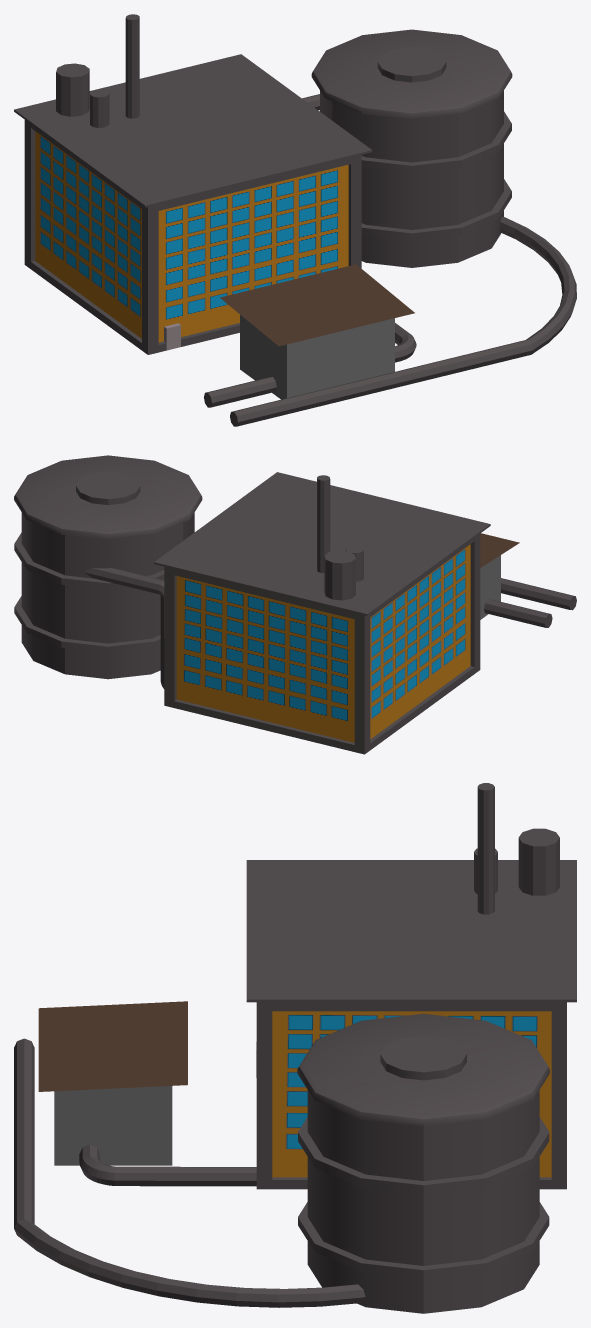
Rendered from refinery.fbx.
The picture shows the model from 3 angles, top to bottom: view 1: azimuth 30°, elevation 25°; view 2: azimuth 150°, elevation 25°; view 3: azimuth 270°, elevation 25°; orthographic projection. The views are drawn at different scales.
Visible parts, largest first — view 1: Cube, Cylinder, Cube.005, Cylinder.001, Cylinder.002, Cylinder.004, Cylinder.006, Cylinder.003, Cylinder.005; view 2: Cube, Cylinder, Cube.005, Cylinder.007, Cylinder.002, Cylinder.004, Cylinder.001, Cylinder.006; view 3: Cylinder, Cube, Cube.005, Cylinder.001, Cylinder.005, Cylinder.002, Cylinder.004.
Boxes of the visible parts, bbox=[...] form: Cube: bbox=[14, 54, 372, 354]; Cylinder: bbox=[311, 29, 512, 267]; Cube.005: bbox=[220, 264, 414, 399]; Cylinder.001: bbox=[230, 216, 576, 426]; Cylinder.002: bbox=[56, 63, 89, 116]; Cylinder.004: bbox=[125, 14, 139, 118]; Cylinder.006: bbox=[204, 377, 276, 407]; Cylinder.003: bbox=[90, 89, 109, 127]; Cylinder.005: bbox=[395, 323, 416, 362]; Cube: bbox=[154, 472, 490, 754]; Cylinder: bbox=[14, 455, 202, 679]; Cube.005: bbox=[480, 533, 519, 619]; Cylinder.007: bbox=[84, 568, 164, 688]; Cylinder.002: bbox=[324, 550, 355, 600]; Cylinder.004: bbox=[317, 475, 330, 573]; Cylinder.001: bbox=[501, 578, 576, 610]; Cylinder.006: bbox=[484, 599, 552, 627]; Cylinder: bbox=[297, 1013, 549, 1313]; Cube: bbox=[246, 860, 576, 1189]; Cube.005: bbox=[38, 1001, 187, 1165]; Cylinder.001: bbox=[14, 1038, 365, 1307]; Cylinder.005: bbox=[79, 1144, 256, 1186]; Cylinder.002: bbox=[518, 828, 559, 895]; Cylinder.004: bbox=[477, 783, 494, 914].
Size of the model in its own units: 298 by 172 by 272.
Materials: 7 (2 with a texture image).
